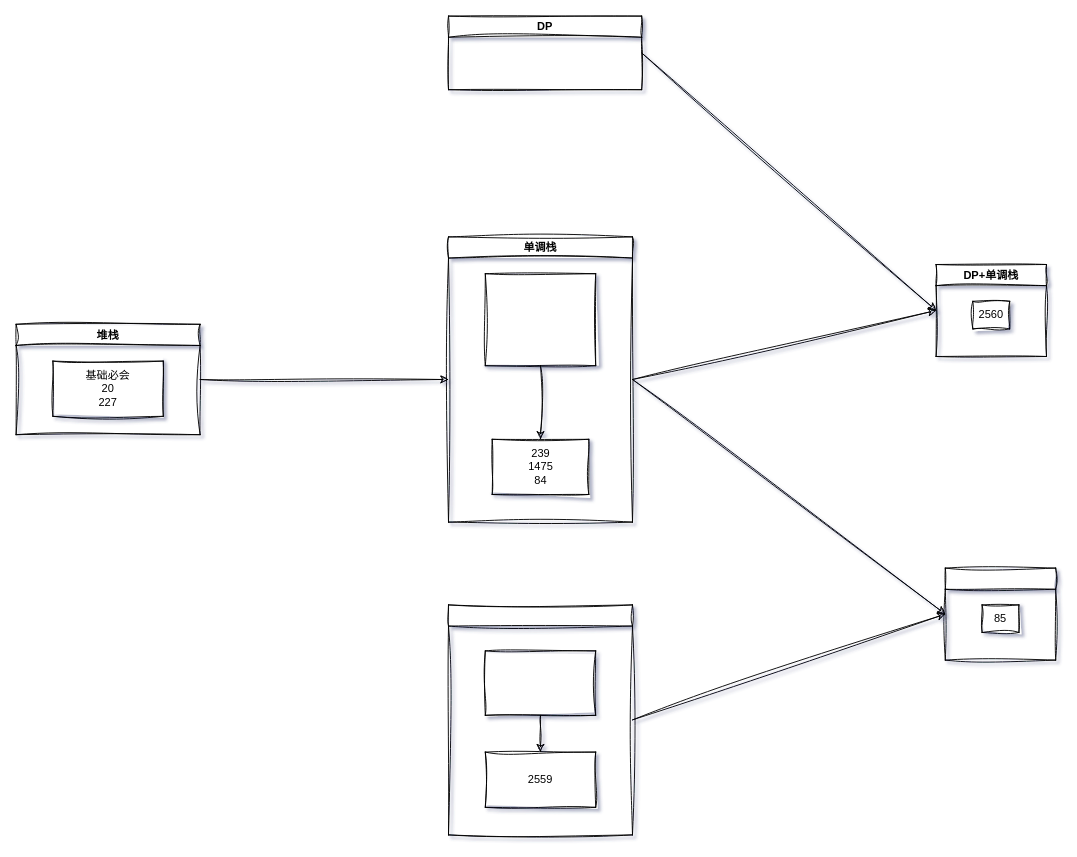
The diagram is 1077 pixels wide and 857 high, and some of its shapes have lost their labels. Here are the shapes that lost their labels. From the top down, the box of each, then its label:
(484, 273, 596, 366): 基础必会 496 503 739
(944, 567, 1056, 660): 前缀和+单调栈
(484, 650, 596, 715): 基础必会 303 304
(448, 604, 632, 835): 前缀和
